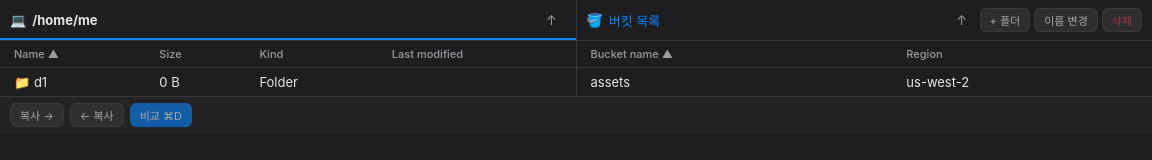
Test: navigation history › inactive tab ignores back button
Step 1. Double-click the text "📁 d1" → (31, 82), box left=0, top=68, right=145, bottom=96
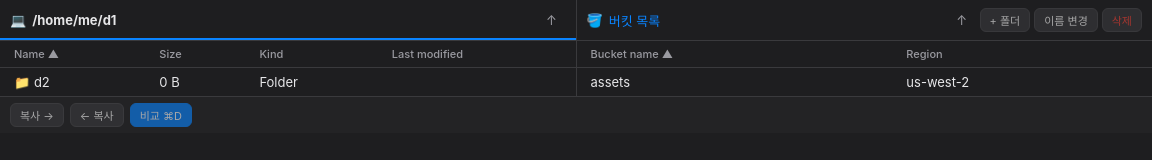
Check: the text "📁 d2" is shown, box left=0, top=68, right=145, bottom=96
Check: the text "/home/me/d1" is shown, box left=32, top=12, right=116, bottom=28
